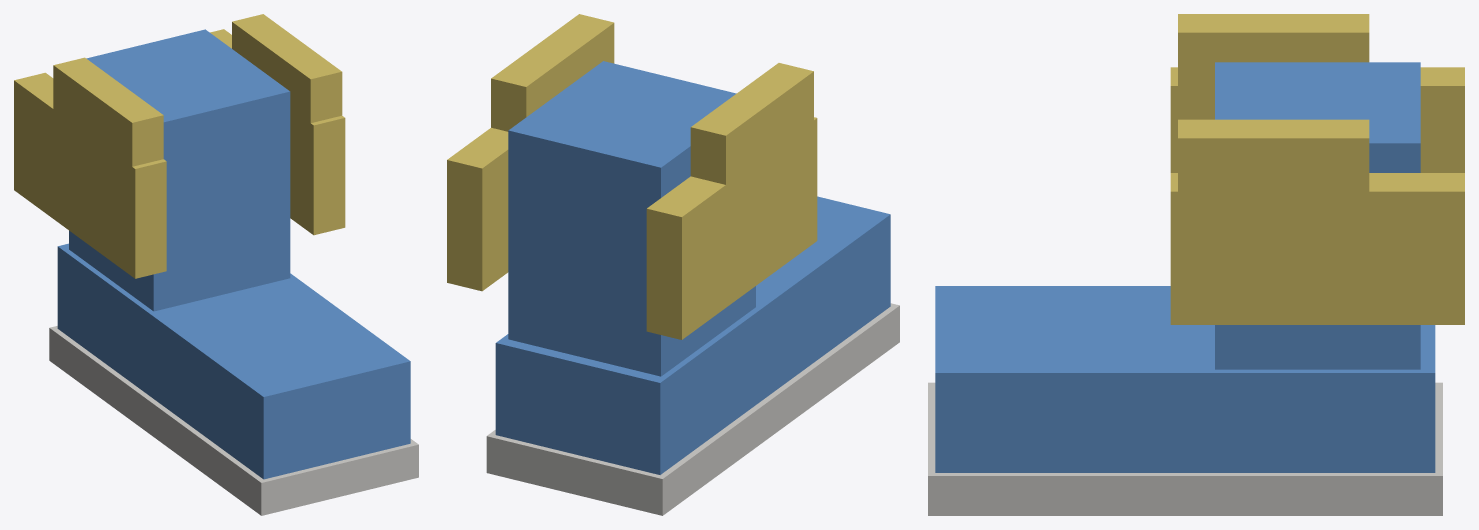
File: corrida.glb
3 views of the same model, side by side, from view 1: azimuth 30°, elevation 25°; view 2: azimuth 150°, elevation 25°; view 3: azimuth 270°, elevation 25° (orthographic). The views are drawn at different scales.
Parts seen in each view (by area): view 1: corrida; view 2: corrida; view 3: corrida.
Part boxes in pixels (bbox=[...]): corrida: bbox=[14, 14, 418, 515]; corrida: bbox=[447, 14, 899, 515]; corrida: bbox=[928, 14, 1464, 515].
Size of the model in its own units: 0.2 by 0.295 by 0.365.
